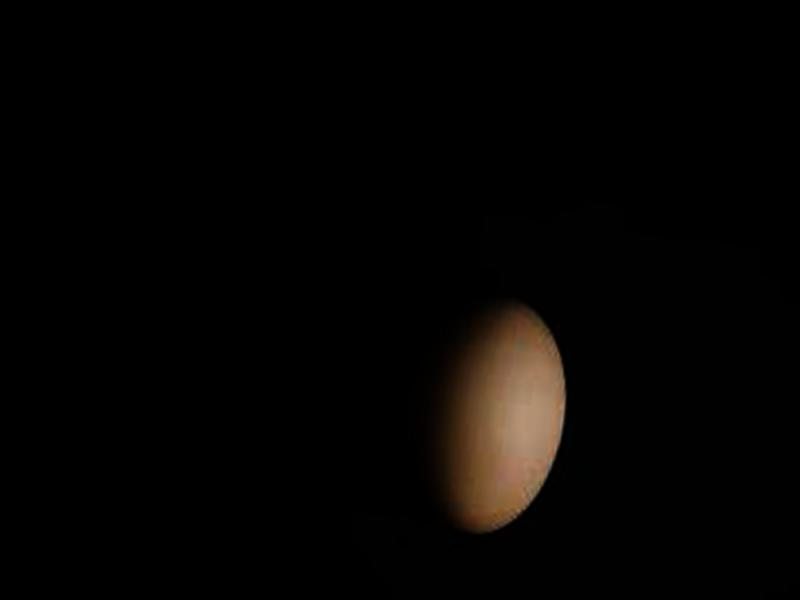Eggs: (395, 283, 579, 549)
